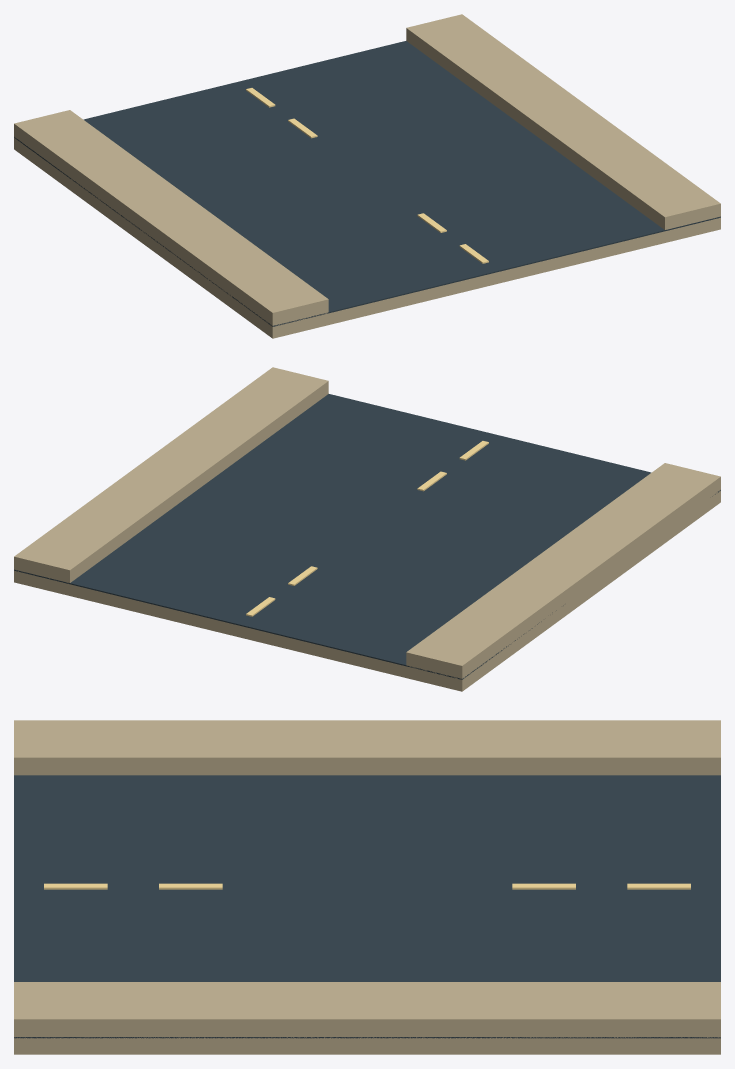
The model's file is road_straight.glb.
3 views of the same model, one above another, from view 1: azimuth 30°, elevation 25°; view 2: azimuth 150°, elevation 25°; view 3: azimuth 270°, elevation 25° (orthographic). The views are drawn at different scales.
Parts seen in each view (by area): view 1: asphalt, closed_edge.001, closed_edge, tile, corner_pavement, corner_pavement.002, corner_pavement.001, corner_pavement.003; view 2: asphalt, closed_edge.001, closed_edge, tile, corner_pavement.001, corner_pavement.003, corner_pavement, corner_pavement.002; view 3: asphalt, closed_edge.001, closed_edge, tile, corner_pavement, corner_pavement.001, corner_pavement.002, corner_pavement.003.
Boxes of the visible parts, box(x1,y1,x2,y2) form: asphalt: box(14, 41, 720, 326); closed_edge.001: box(46, 133, 295, 302); closed_edge: box(438, 38, 687, 206); tile: box(14, 138, 720, 338); corner_pavement: box(240, 275, 328, 326); corner_pavement.002: box(632, 180, 720, 229); corner_pavement.001: box(14, 110, 101, 159); corner_pavement.003: box(406, 14, 493, 64); asphalt: box(14, 394, 720, 679); closed_edge.001: box(439, 486, 688, 655); closed_edge: box(47, 391, 296, 559); tile: box(14, 491, 720, 691); corner_pavement.001: box(406, 628, 494, 679); corner_pavement.003: box(14, 533, 102, 583); corner_pavement: box(633, 463, 720, 513); corner_pavement.002: box(241, 367, 328, 417); asphalt: box(14, 775, 720, 1038); closed_edge.001: box(102, 720, 632, 775); closed_edge: box(102, 982, 632, 1038); tile: box(14, 1038, 720, 1054); corner_pavement: box(14, 720, 102, 775); corner_pavement.001: box(632, 720, 720, 775); corner_pavement.002: box(14, 982, 102, 1038); corner_pavement.003: box(632, 982, 720, 1037).
Size of the model in its own units: 4 by 0.22 by 4.
